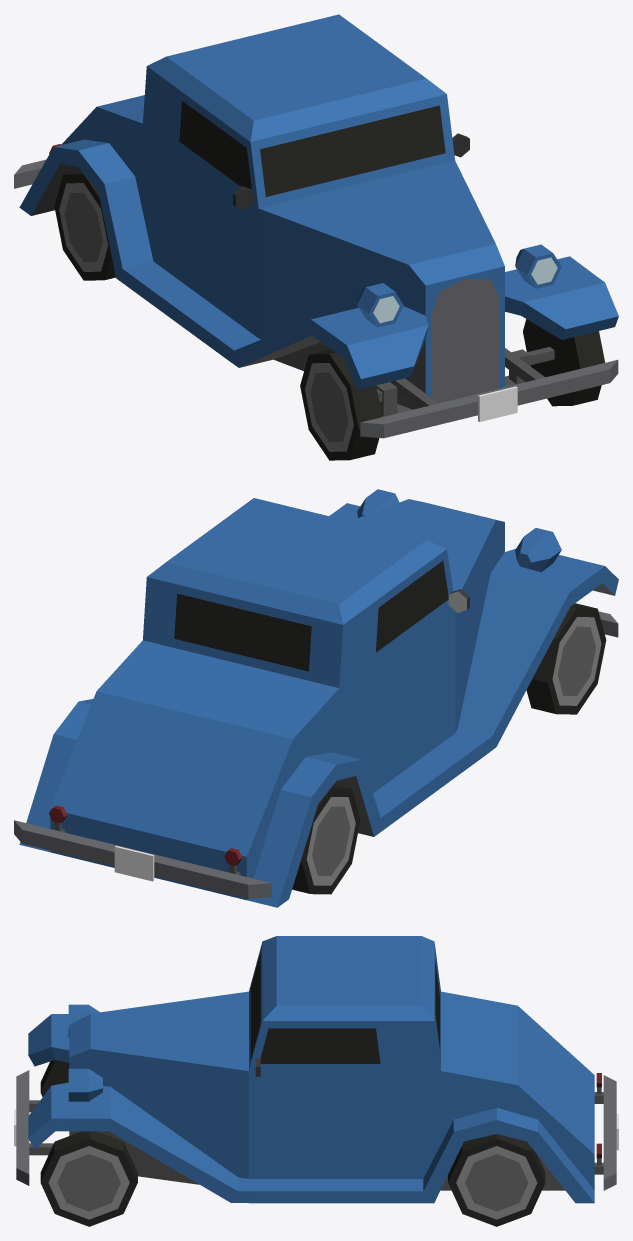
File: Veh_Retro_Car_02_Blue.obj
3 views of the same model, one above another, from view 1: azimuth 30°, elevation 25°; view 2: azimuth 150°, elevation 25°; view 3: azimuth 270°, elevation 25° (orthographic). The views are drawn at different scales.
Bounding box in the file's own units: 0.9825 × 0.8995 × 2.4.
